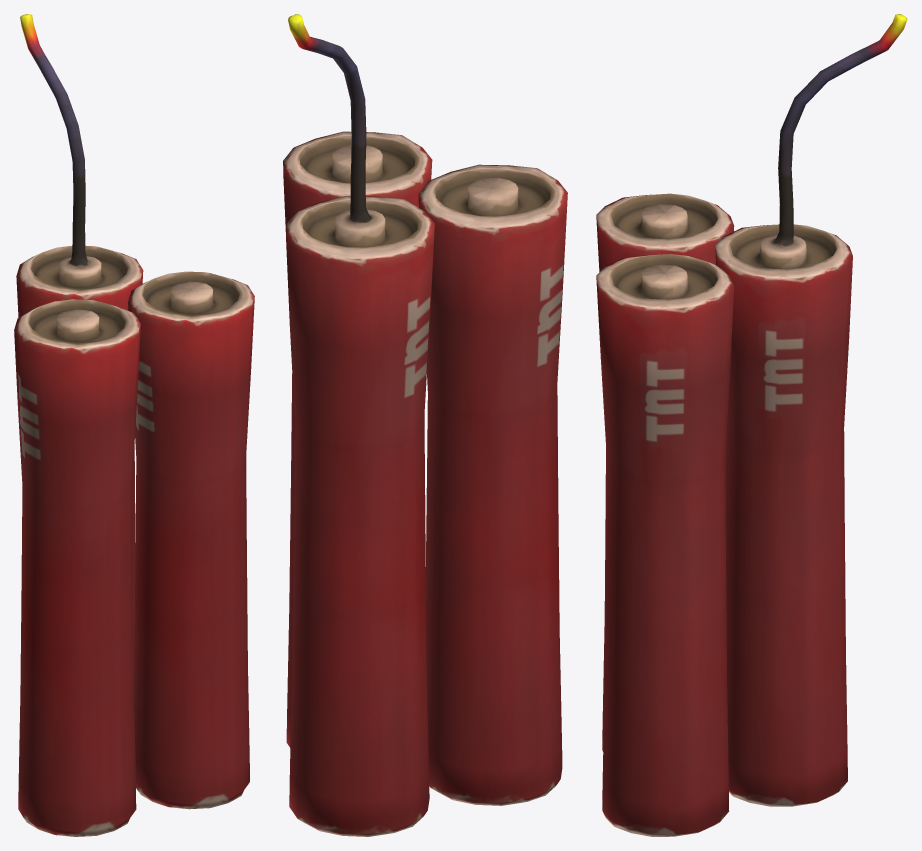
The model's file is TNT.fbx.
3 renders of one model, left to right at view 1: azimuth 30°, elevation 25°; view 2: azimuth 150°, elevation 25°; view 3: azimuth 270°, elevation 25°, orthographic. The views are drawn at different scales.
Parts seen in each view (by area): view 1: TNT; view 2: TNT; view 3: TNT.
Part boxes in pixels (x1,y1,x2,y2): TNT: [14, 14, 254, 836]; TNT: [283, 14, 567, 836]; TNT: [596, 14, 907, 836].
Size of the model in its own units: 2039 by 6151 by 2263.
